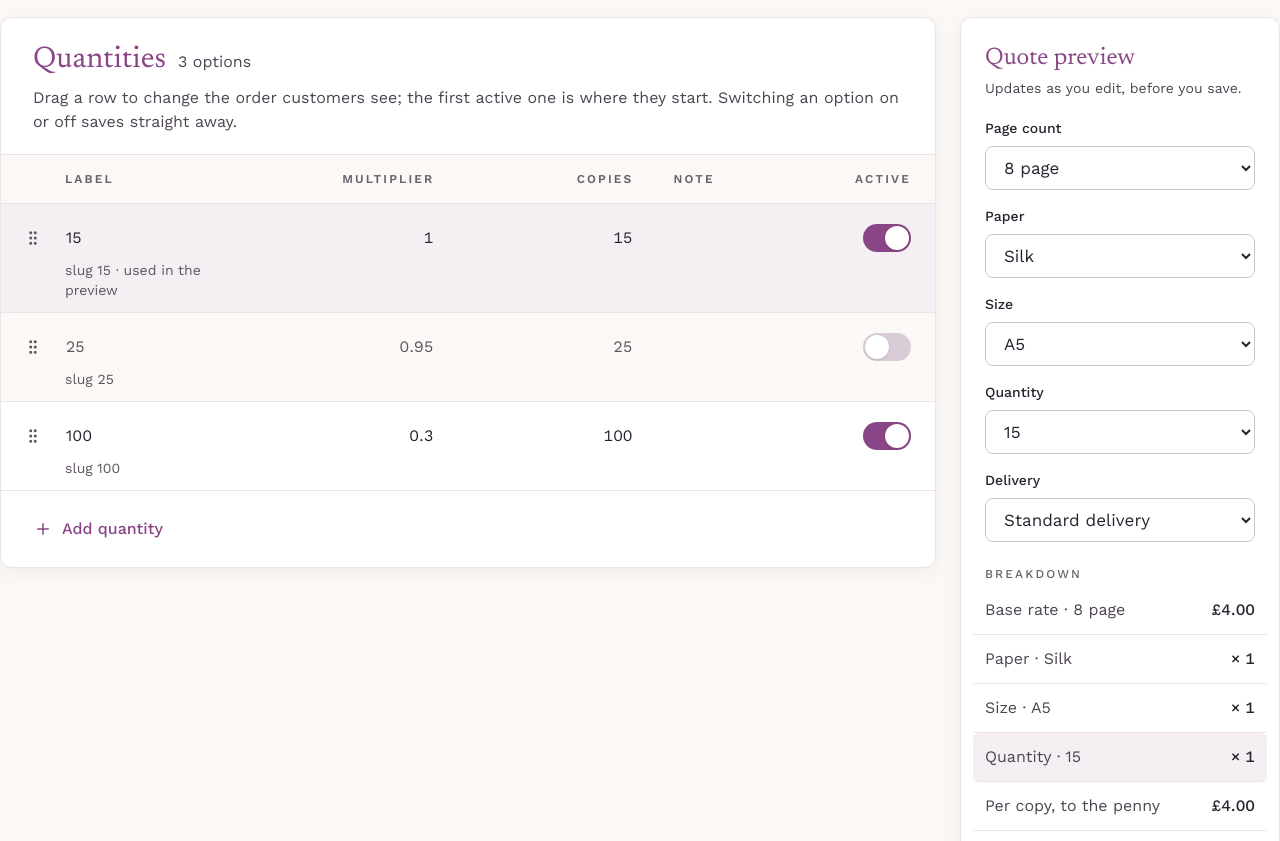
Test: AdminPricingEditor › holds an edit until saved, previews it, and summarises it
Replace the text in the field named "Multiplier for 15" with "0.5" at (348, 238), box [251,216,446,260]
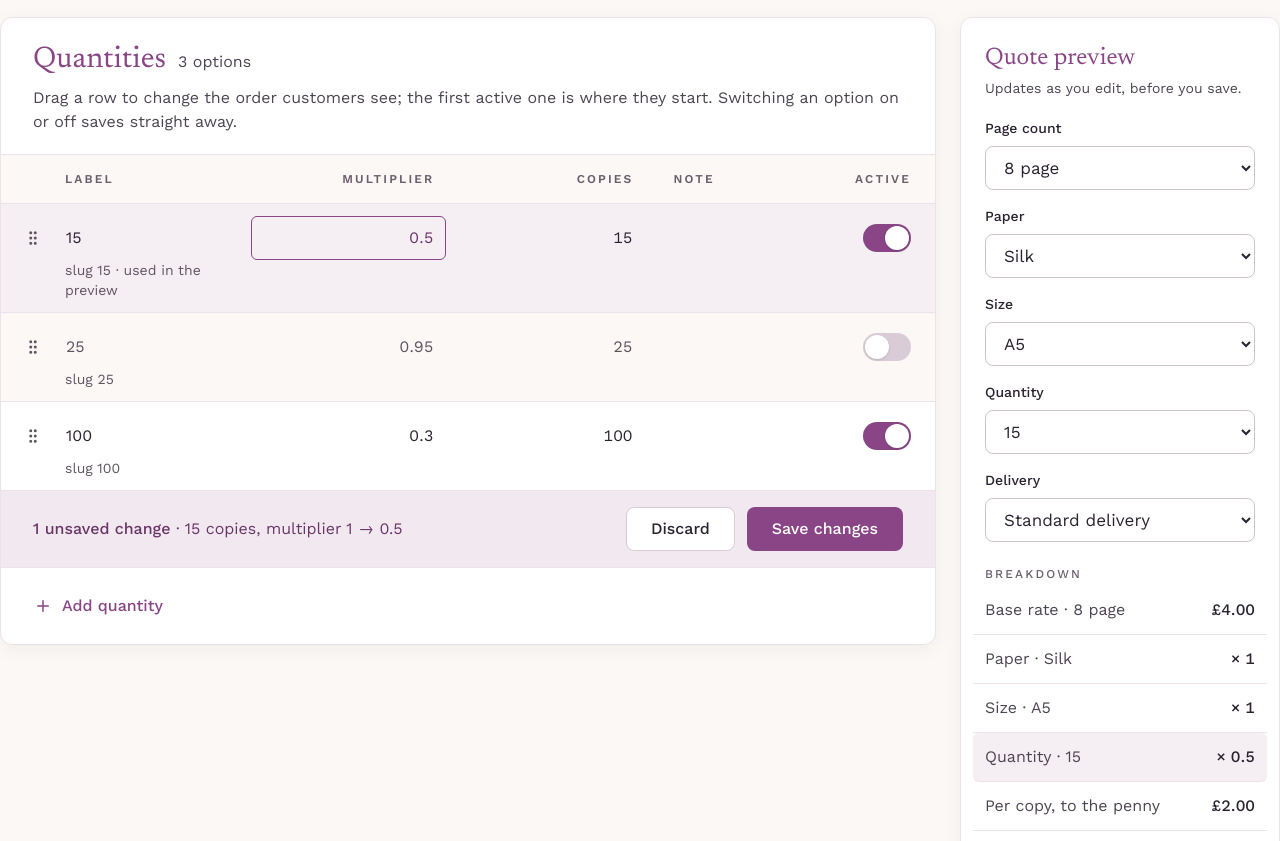
expect the element showing "1 unsaved change · 15 copies, multiplier 1 → 0.5" is shown: met, box [33,517,403,541]
Click the button "Discard" at (680, 529), box [626,507,735,551]
(page scrolled)
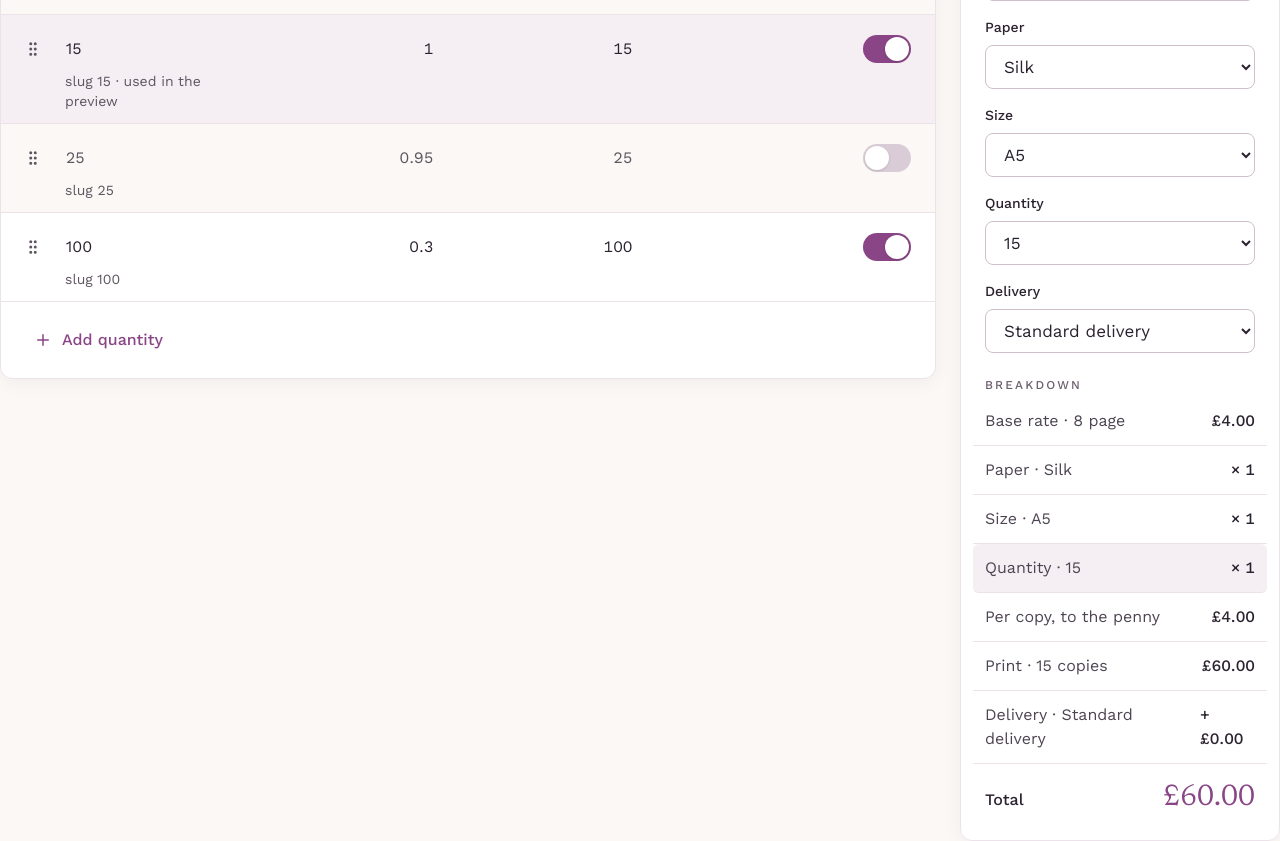
expect the field named "Multiplier for 15" holds "1": met, box [251,27,446,71]
expect the text "£60.00" next to "Total" is shown: met, box [1163,783,1255,813]
